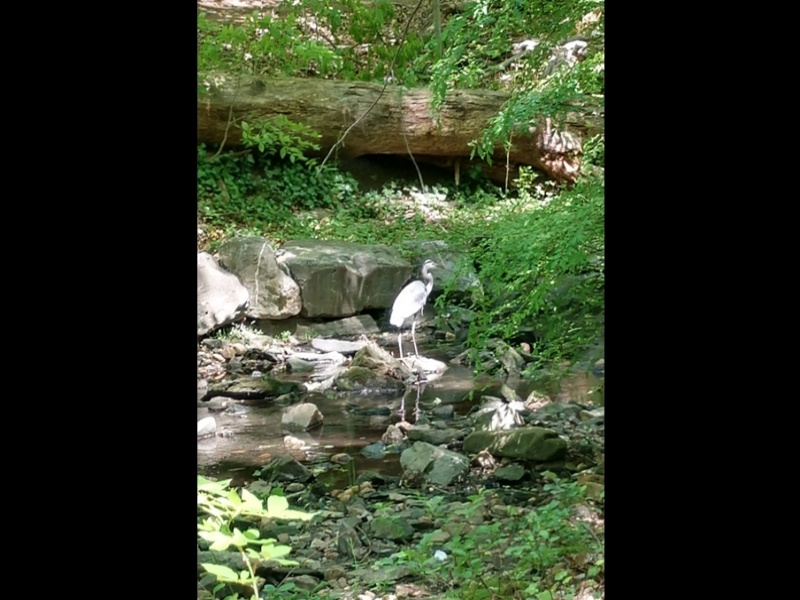heron: (388, 258, 440, 361)
